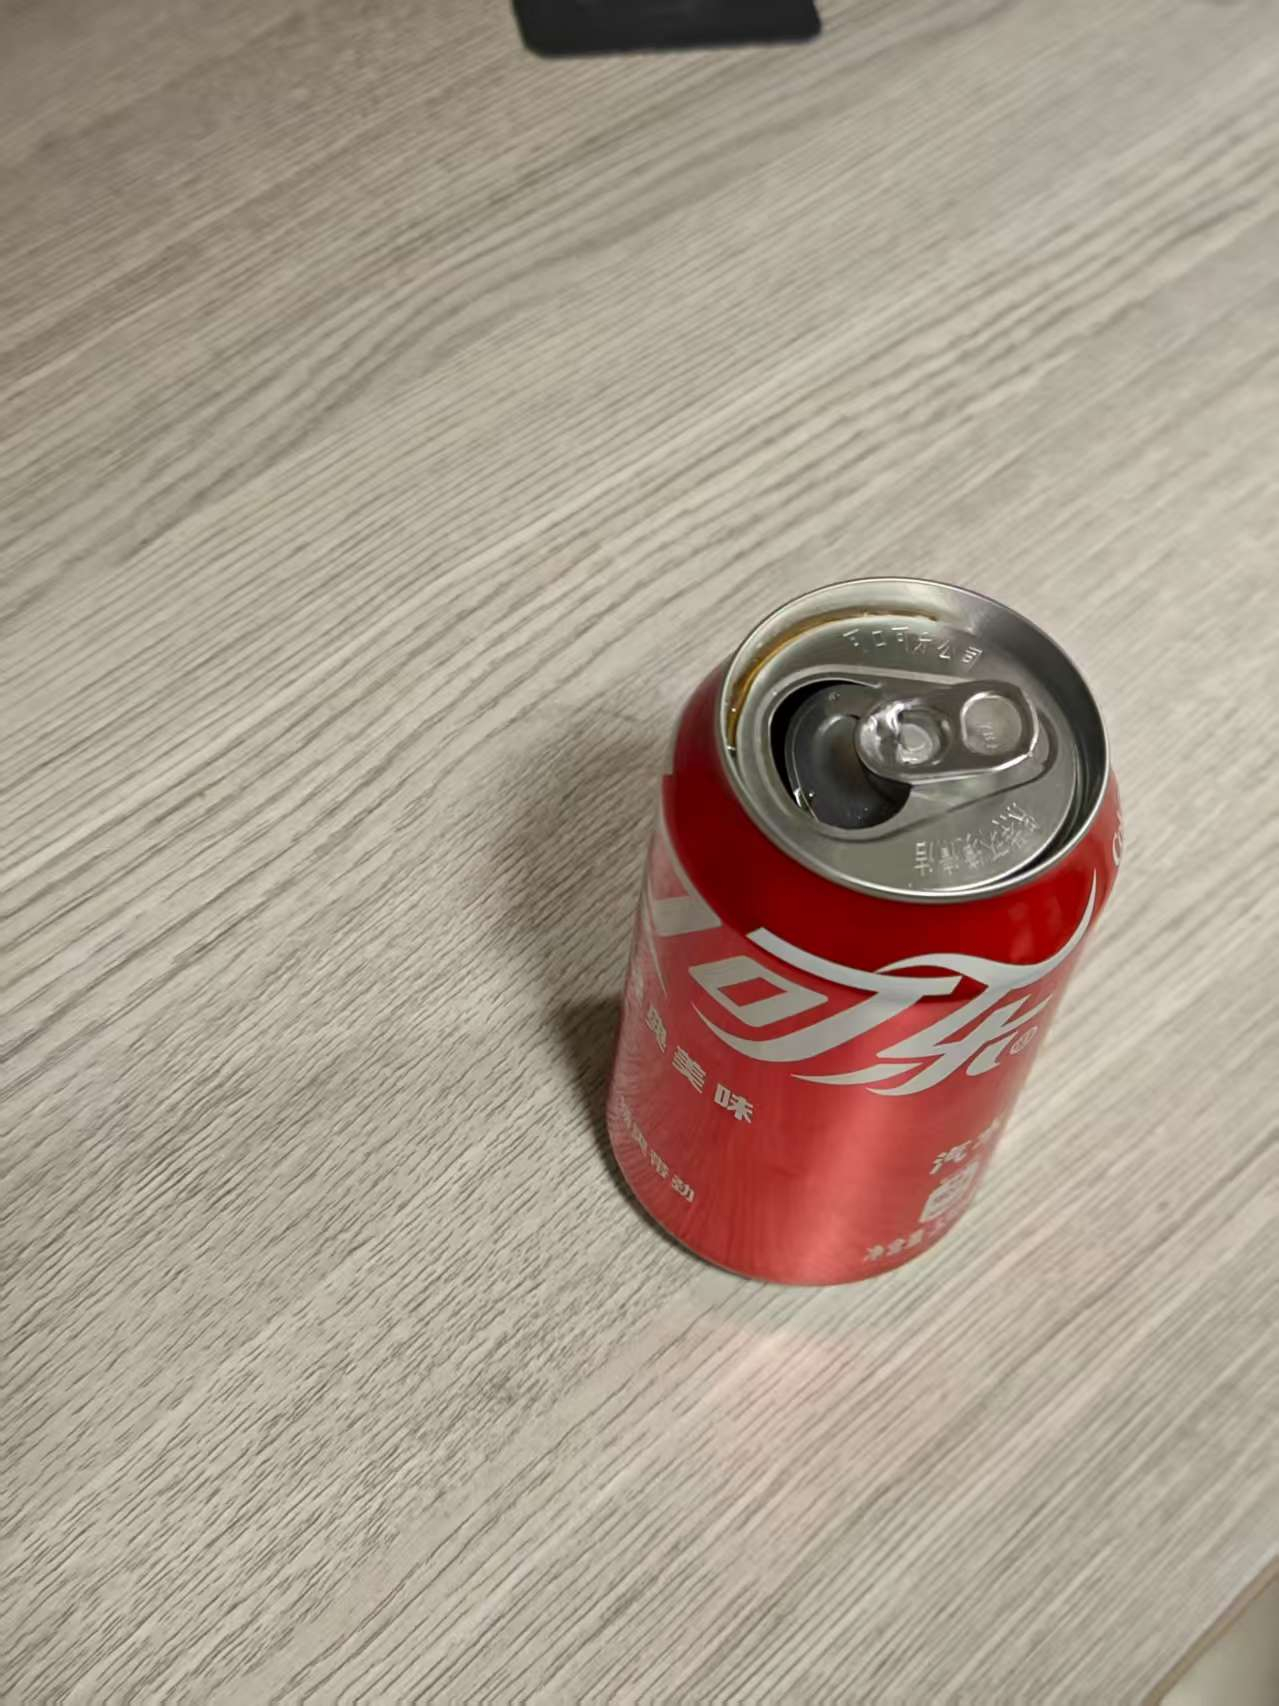可乐: (601, 584, 1184, 1393)
